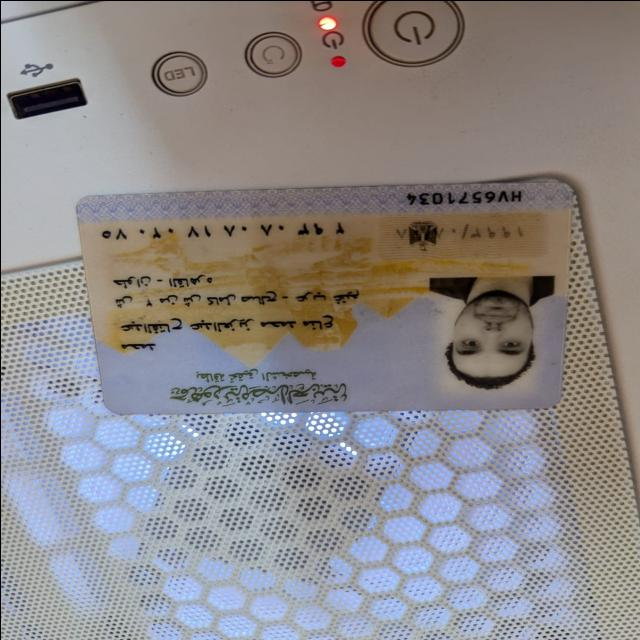ID-cards: (65, 171, 586, 421)
